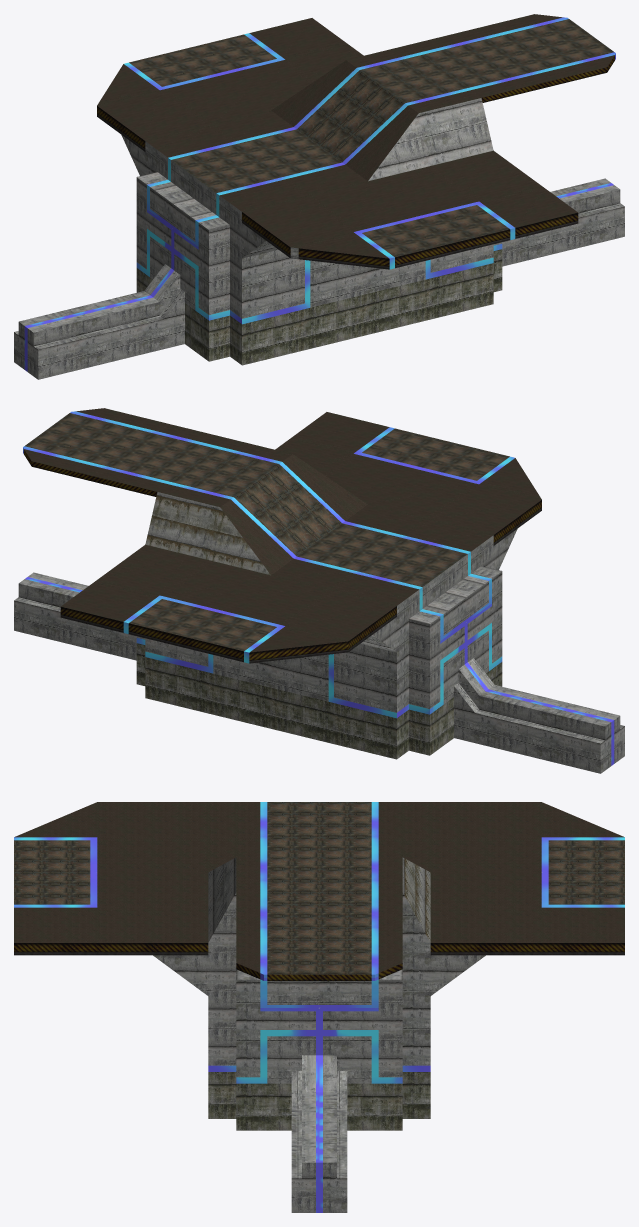
File: EnergyLine3.fbx
3 views of the same model, one above another, from view 1: azimuth 30°, elevation 25°; view 2: azimuth 150°, elevation 25°; view 3: azimuth 270°, elevation 25° (orthographic). The views are drawn at different scales.
Parts seen in each view (by area): view 1: Object; view 2: Object; view 3: Object.
Boxes of the visible parts, x1,y1,x2,y2 form: Object: (14,14,624,379); Object: (14,408,624,773); Object: (14,802,624,1212).
Size of the model in its own units: 22400 by 7200 by 17600.
